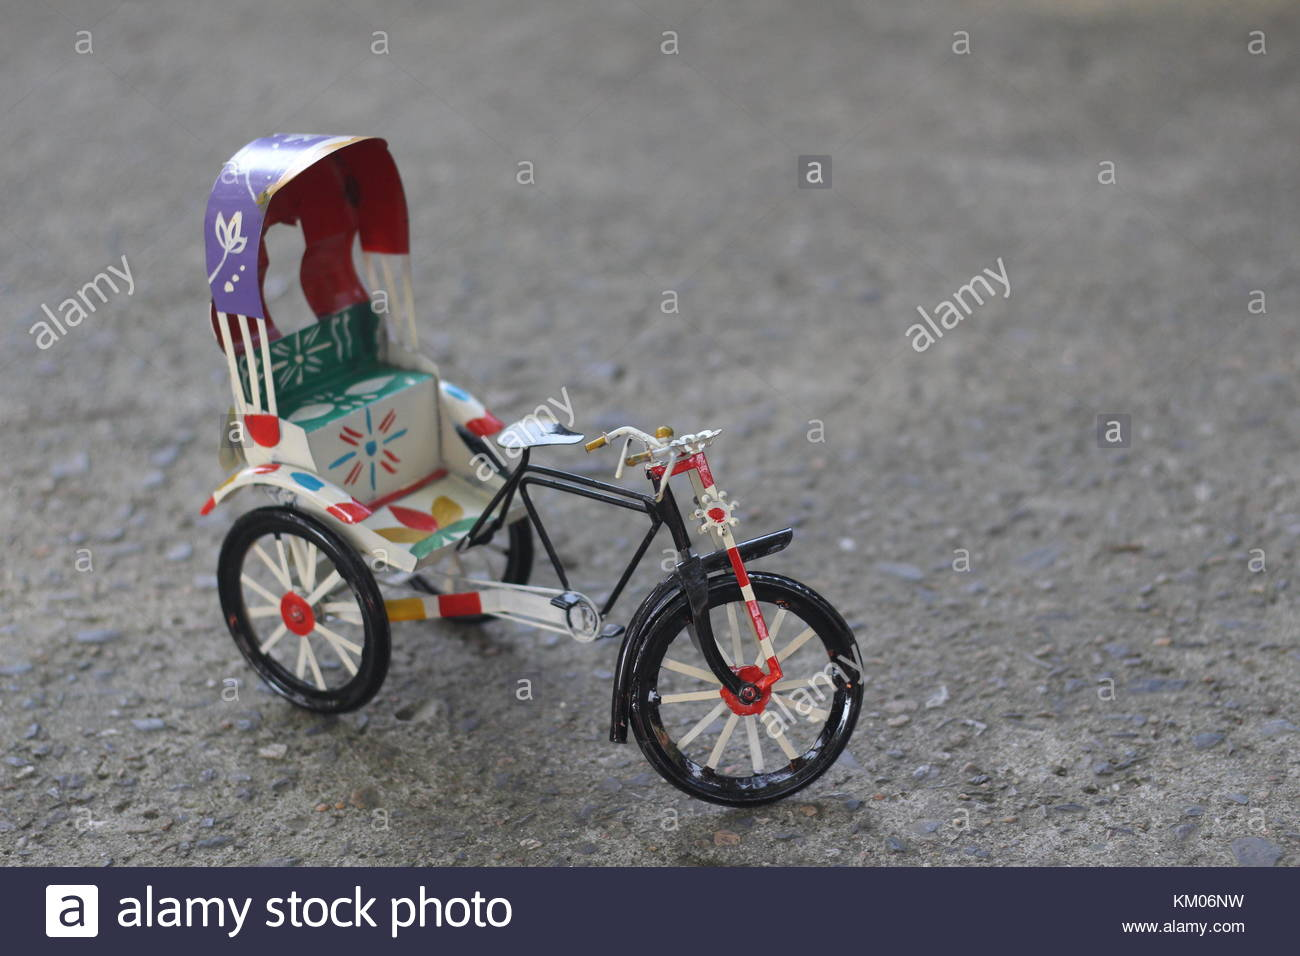Rickshaw: (187, 123, 887, 834)
